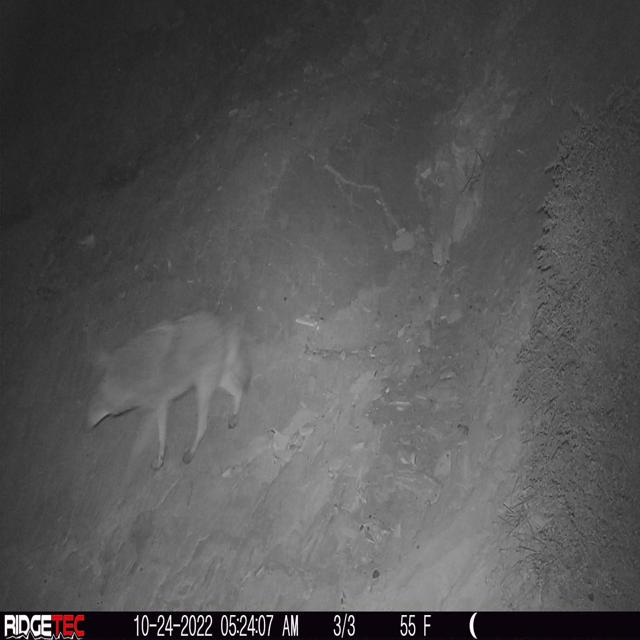coyote: (81, 309, 252, 487)
